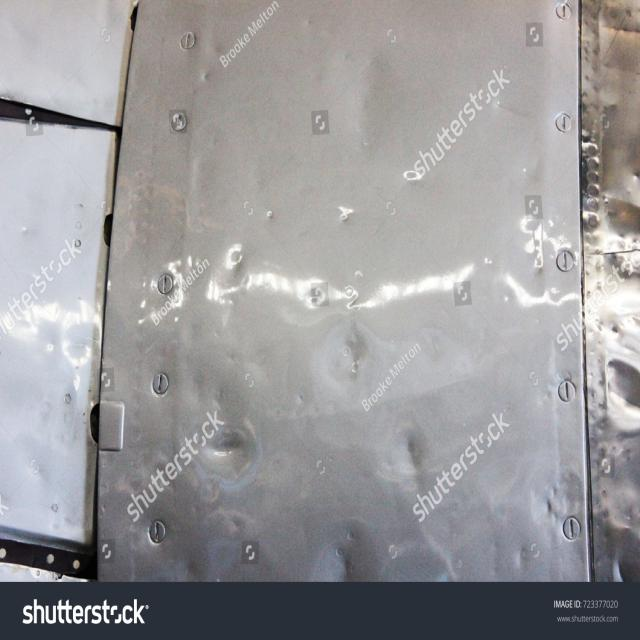Dent: (399, 426, 426, 478), (208, 431, 259, 458)
